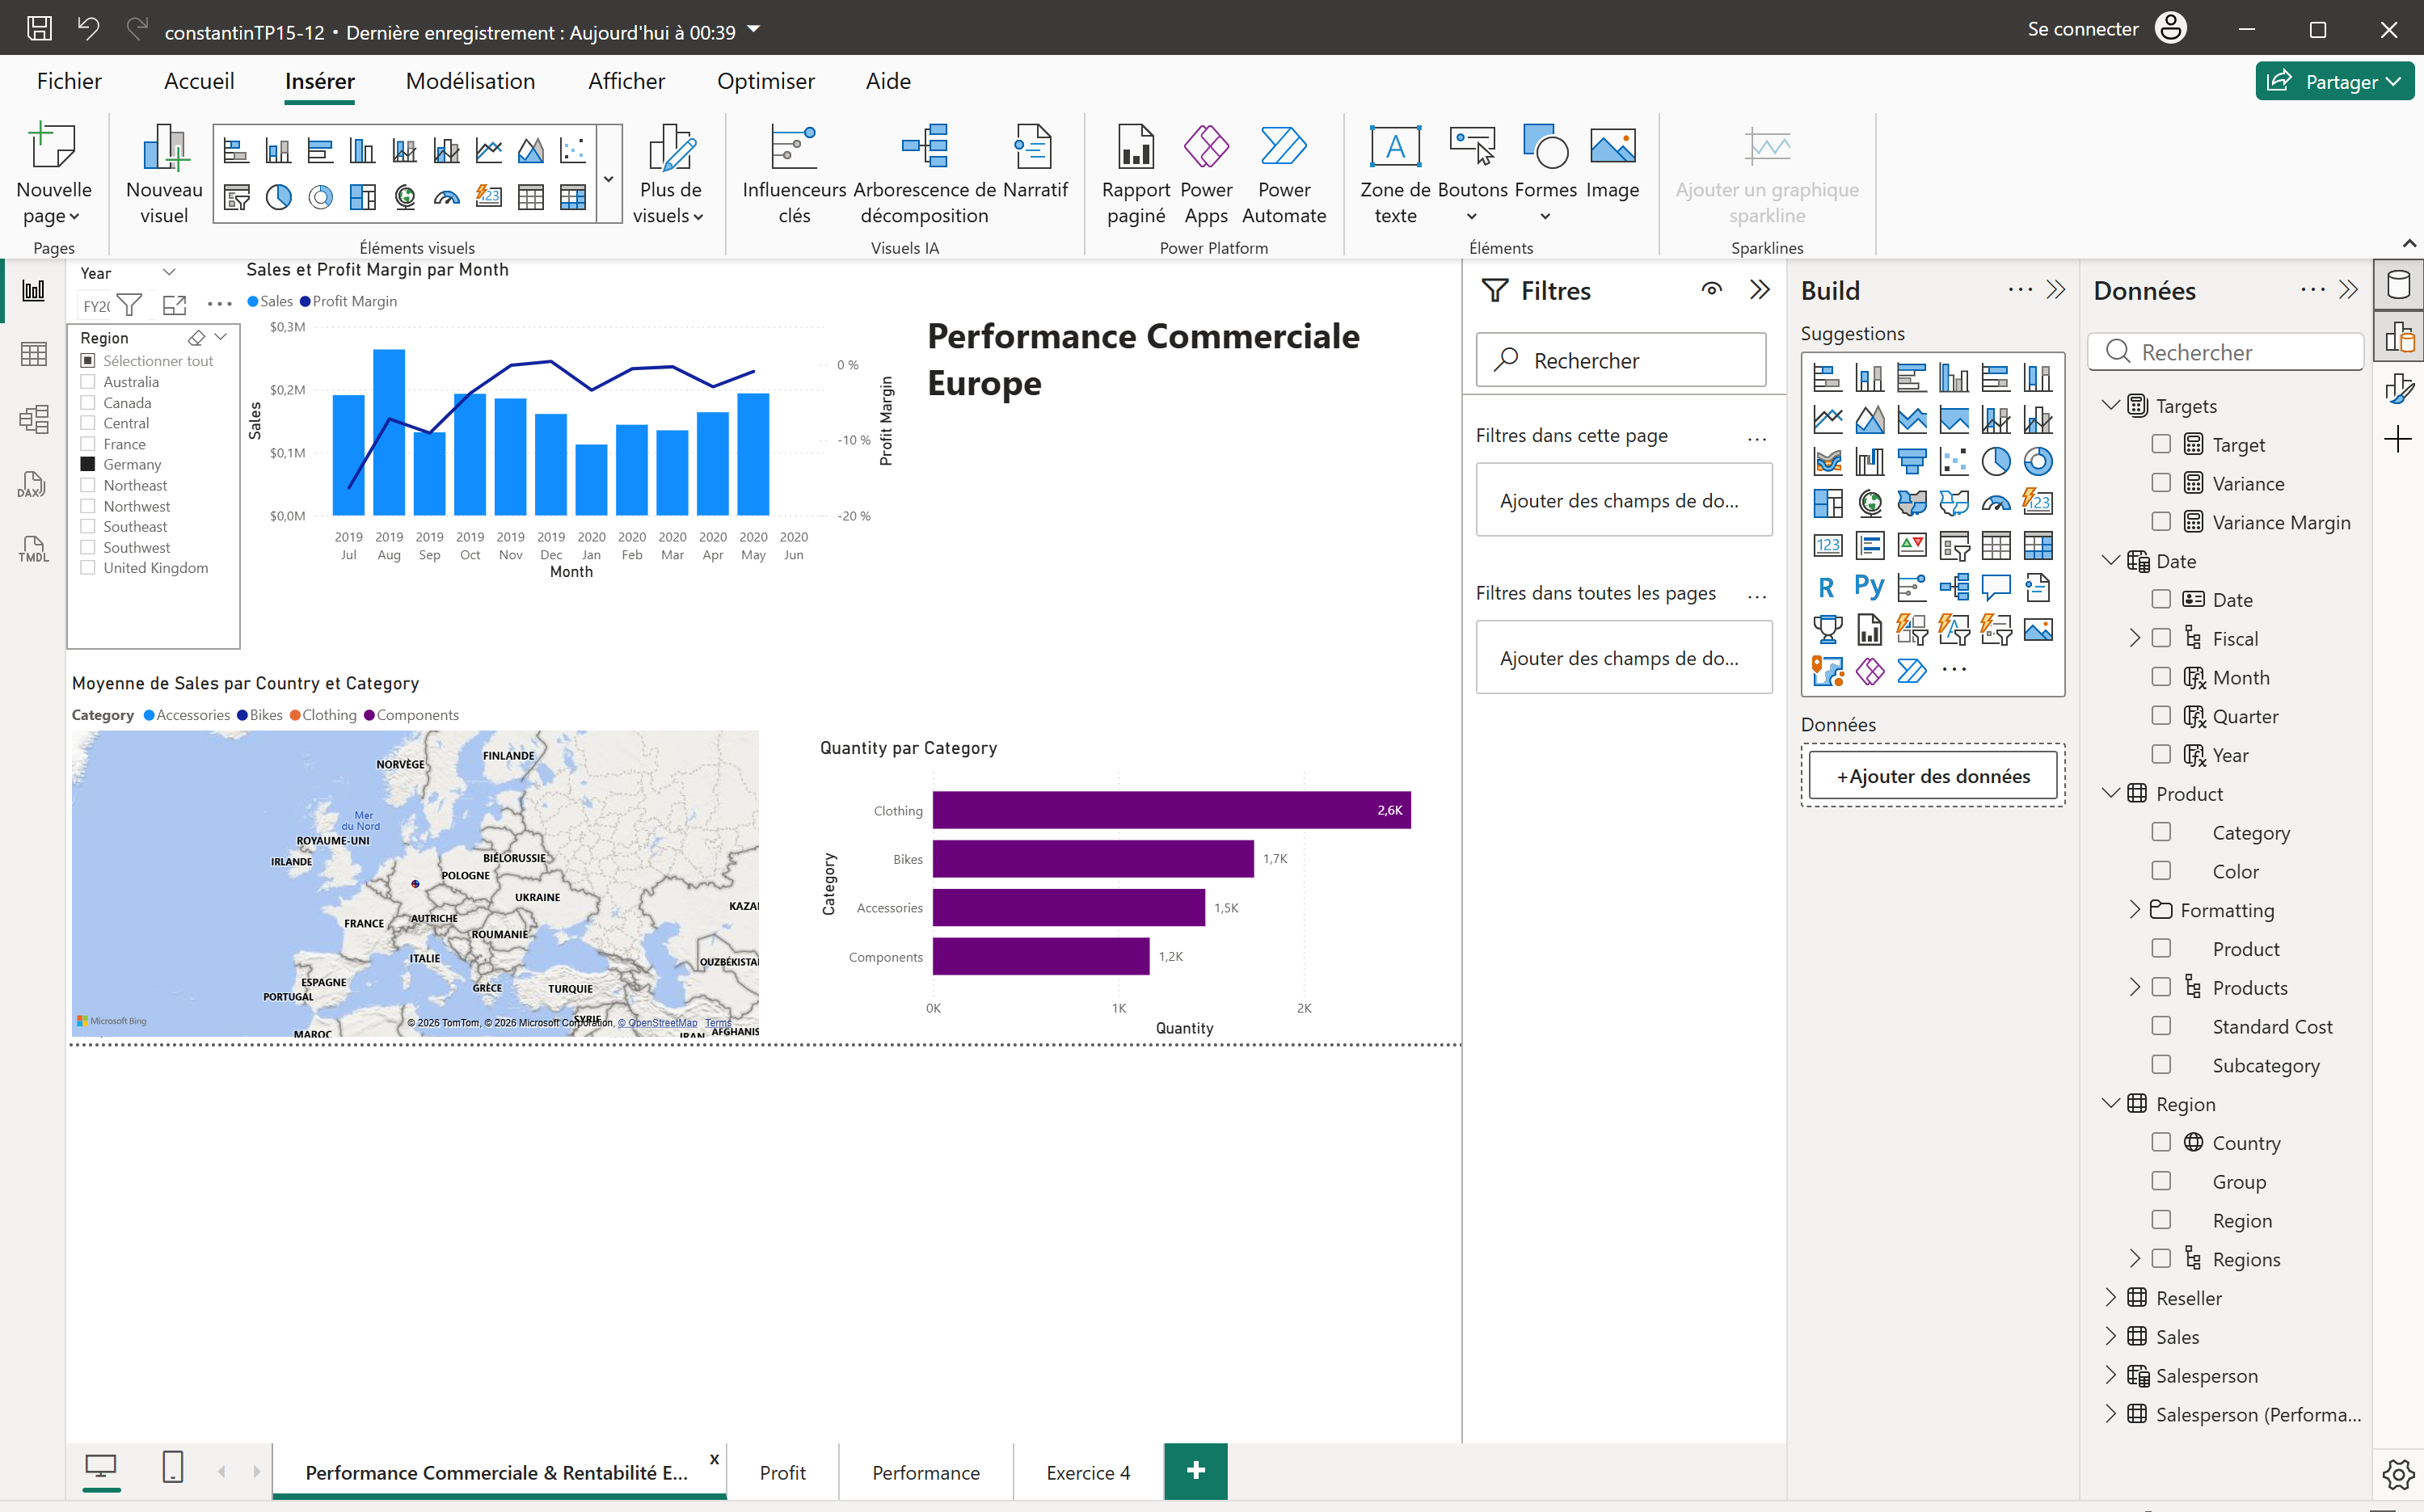

The page's visual inventory and layout, read from the dashboard file:
{"tool":"powerbi","page":{"name":"Performance Commerciale & Rentabilité Europe","canvas":[1280,720],"ordinal":0},"visuals":[{"type":"slicer","fields":{"Values":["Date.Year"]},"box":[0,0,113.5,85.6],"z":0},{"type":"slicer","fields":{"Values":["Region.Region"]},"box":[0,59.6,160.6,300],"z":1000},{"type":"lineClusteredColumnComboChart","fields":{"Category":["Date.Month"],"Y":["Sum(Sales.Sales)"],"Y2":["Sales.Profit Margin"]},"box":[160.6,0,604.8,300],"z":2000},{"type":"map","fields":{"Category":["Region.Regions.Country"],"Series":["Product.Category"],"Y":["Avg(Sales.Sales)"]},"box":[0,379.7,640.7,339.7],"z":3000},{"type":"barChart","fields":{"Category":["Product.Category"],"Y":["Sum(Sales.Quantity)"]},"box":[686.7,439,582.9,280.3],"z":4000},{"type":"textbox","box":[784.6,43,486.5,145.4],"z":4001}]}

Visuals, with their boxes on the page's 1280x720 design canvas (x1, y1, x2, y2). These are canvas units, not pixel positions in the 2424x1512 screenshot, which may show the page scaled, cropped or inside an application window:
slicer - Date.Year: l=0, t=0, r=114, b=86
slicer - Region.Region: l=0, t=60, r=161, b=360
lineClusteredColumnComboChart - Date.Month x Sum(Sales.Sales): l=161, t=0, r=765, b=300
map - Region.Regions.Country x Product.Category: l=0, t=380, r=641, b=719
barChart - Product.Category x Sum(Sales.Quantity): l=687, t=439, r=1270, b=719
textbox: l=785, t=43, r=1271, b=188
